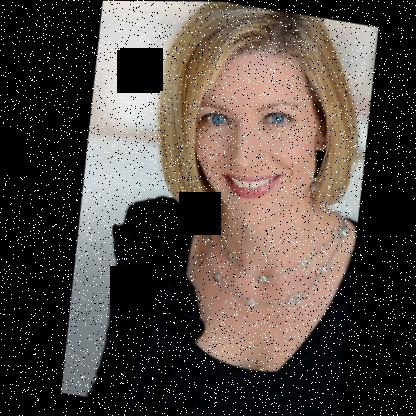Female: (173, 36, 344, 235)
